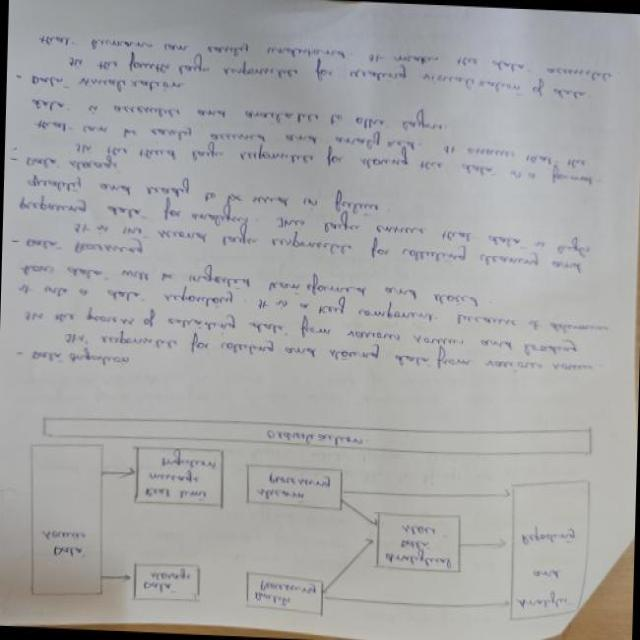Figure Detection - v3 Dataset Version2: (9, 381, 609, 640)
